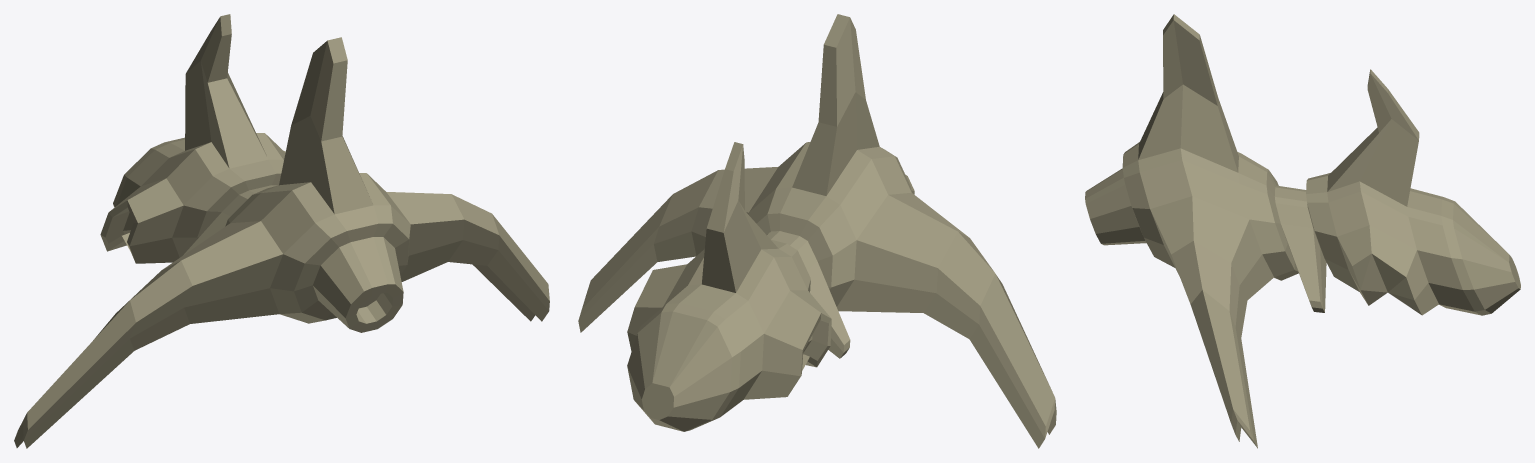
Rendered from dragons_mini_ribs.fbx.
3 renders of one model, left to right at view 1: azimuth 30°, elevation 25°; view 2: azimuth 150°, elevation 25°; view 3: azimuth 270°, elevation 25°, orthographic. The views are drawn at different scales.
Visible parts, largest first — view 1: Cylinder.006; view 2: Cylinder.006; view 3: Cylinder.006.
Boxes of the visible parts, left/top/right/bottom form: Cylinder.006: left=14, top=14, right=549, bottom=448; Cylinder.006: left=578, top=14, right=1056, bottom=448; Cylinder.006: left=1085, top=14, right=1520, bottom=448.
Size of the model in its own units: 879 by 611 by 730.
